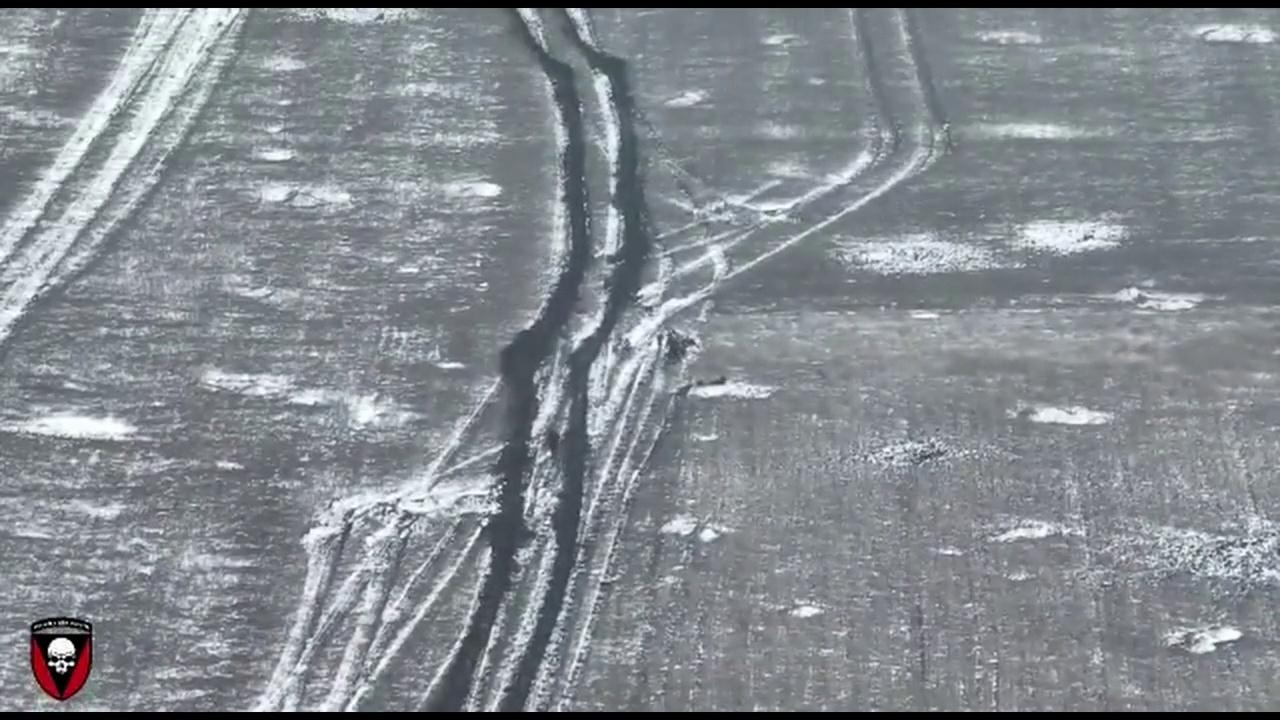person: (546, 426, 562, 457), (664, 330, 680, 360)
